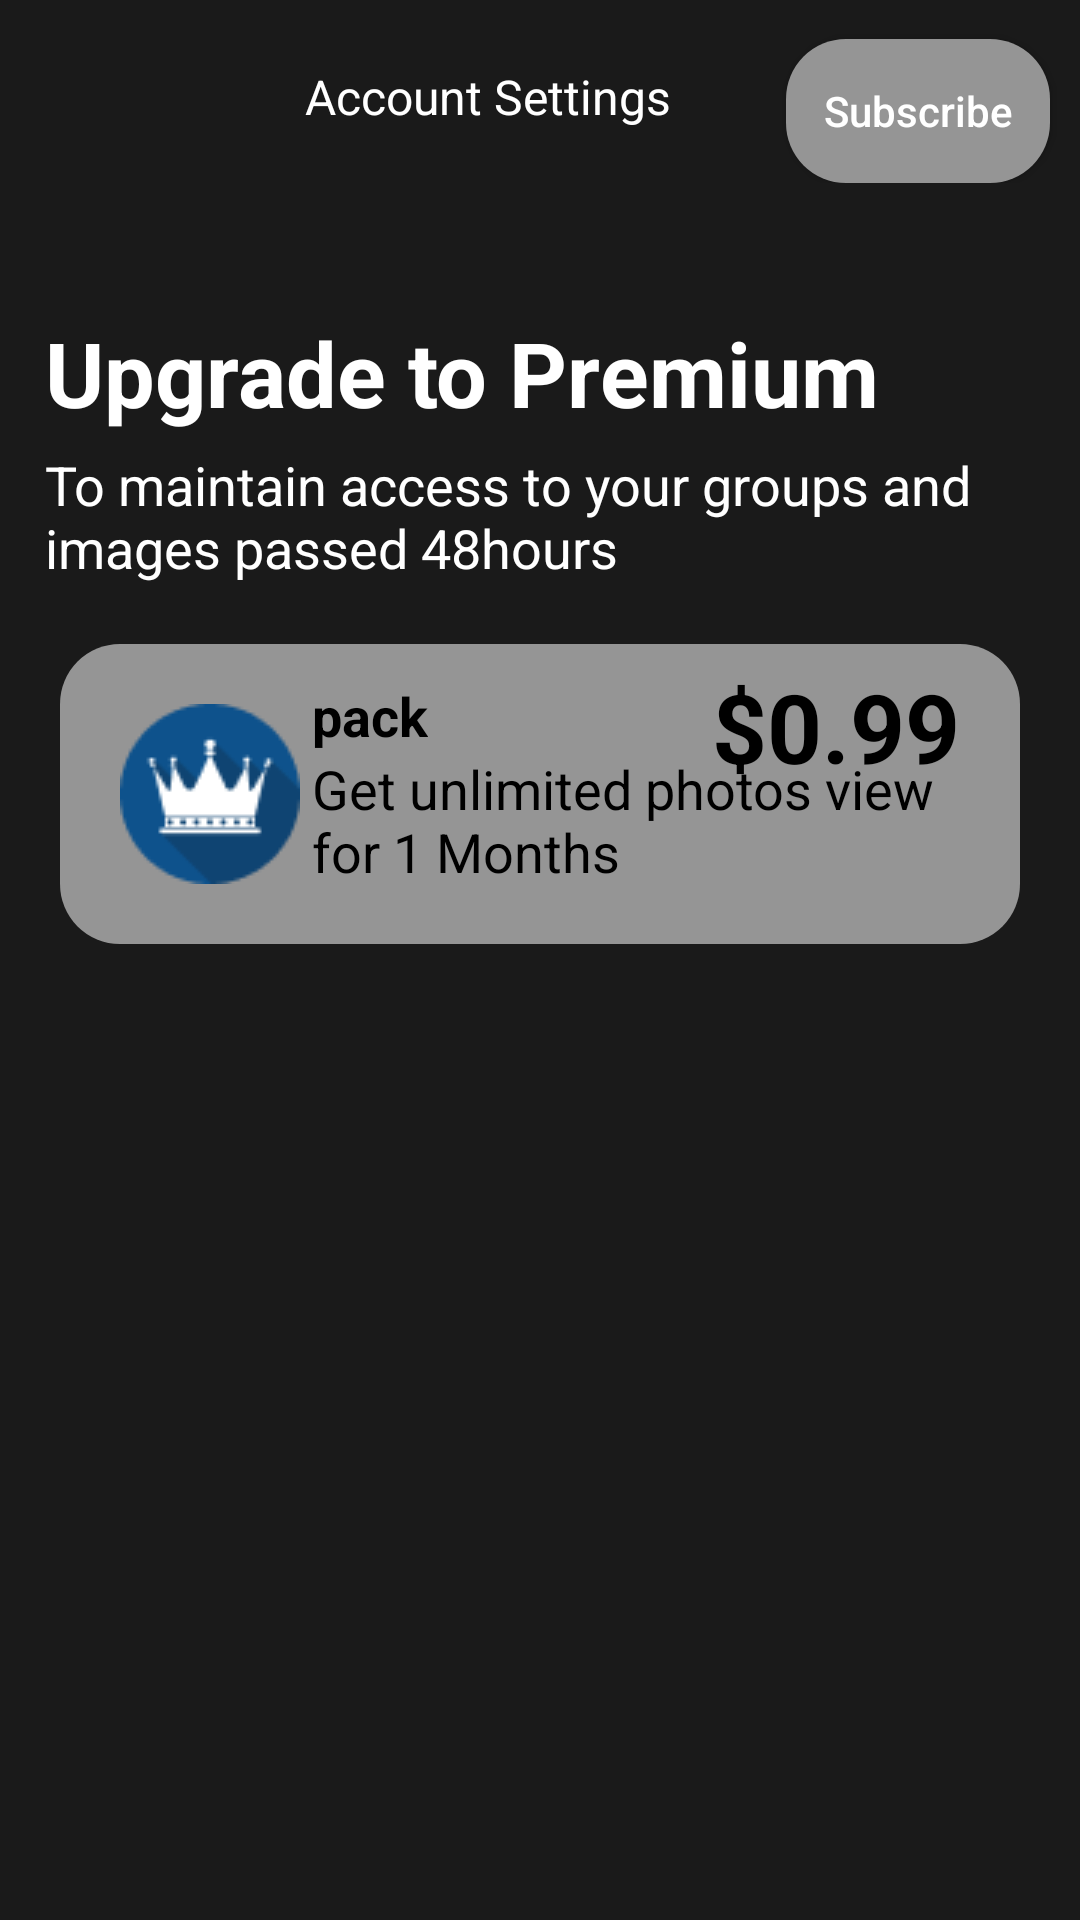

Icons on this 1080w x 1920h Android screen, each with its box as [x1, y1, x2, y2]:
premium: [120, 704, 300, 884]
